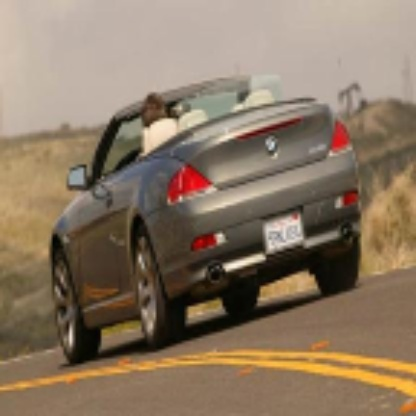Vehicle: (50, 75, 362, 366)
